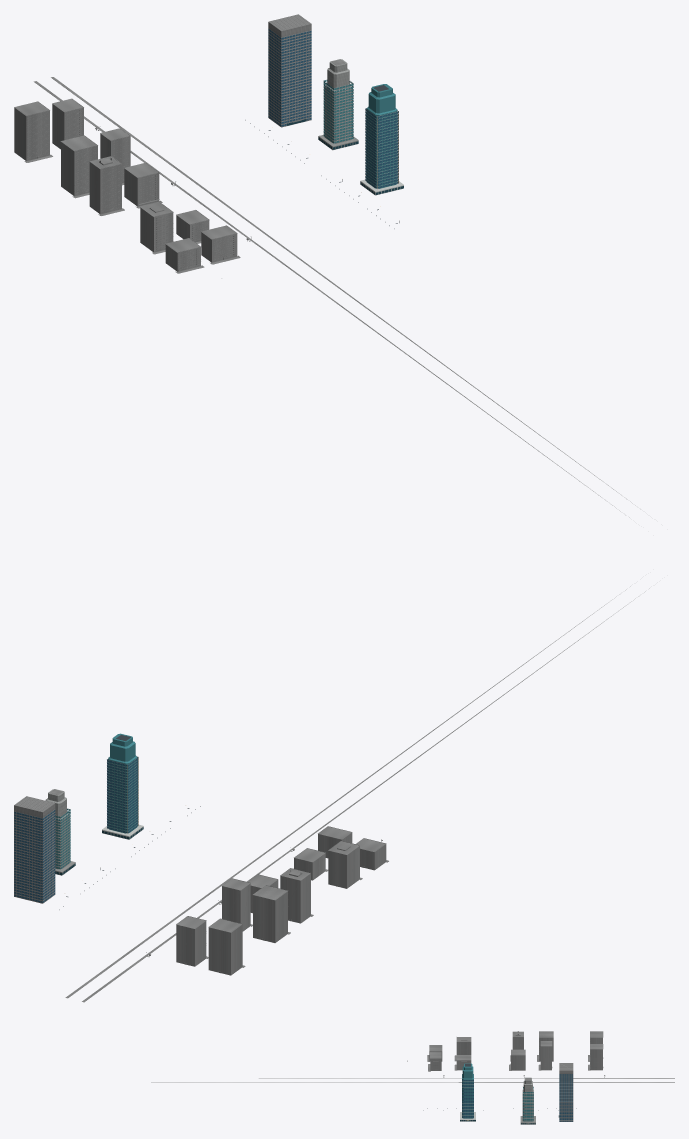
Rendered from cell_2_-4_lod1.gltf.
3 renders of one model, top to bottom at view 1: azimuth 30°, elevation 25°; view 2: azimuth 150°, elevation 25°; view 3: azimuth 270°, elevation 25°, orthographic. The views are drawn at different scales.
Parts seen in each view (by area): view 1: MASS_EKO_004, EKO_BATCH_EKO_|_deep_Atlantic_blue_glass, EKO_ENTRY_DOOR_EKO_RESIDENCE_COURT_03, EKO_RETAIL_PODIUM_EKO_RESIDENCE_COURT_03, EKO_MARINA_HOTEL_02; view 2: MASS_EKO_004, EKO_BATCH_EKO_|_deep_Atlantic_blue_glass, EKO_ENTRY_DOOR_EKO_RESIDENCE_COURT_03, EKO_RETAIL_PODIUM_EKO_RESIDENCE_COURT_03, EKO_MARINA_HOTEL_02; view 3: MASS_EKO_004, EKO_BATCH_EKO_|_deep_Atlantic_blue_glass, EKO_ENTRY_DOOR_EKO_RESIDENCE_COURT_03, EKO_MARINA_HOTEL_02, EKO_RETAIL_PODIUM_EKO_RESIDENCE_COURT_03.
Part boxes in pixels (box(x1,y1,x2,y2)): MASS_EKO_004: box(14, 14, 635, 517); EKO_BATCH_EKO_|_deep_Atlantic_blue_glass: box(268, 28, 398, 188); EKO_ENTRY_DOOR_EKO_RESIDENCE_COURT_03: box(323, 80, 397, 188); EKO_RETAIL_PODIUM_EKO_RESIDENCE_COURT_03: box(268, 30, 403, 195); EKO_MARINA_HOTEL_02: box(324, 59, 352, 143); MASS_EKO_004: box(14, 586, 649, 1002); EKO_BATCH_EKO_|_deep_Atlantic_blue_glass: box(14, 757, 138, 902); EKO_ENTRY_DOOR_EKO_RESIDENCE_COURT_03: box(55, 733, 137, 869); EKO_RETAIL_PODIUM_EKO_RESIDENCE_COURT_03: box(14, 756, 143, 901); EKO_MARINA_HOTEL_02: box(45, 789, 69, 869); MASS_EKO_004: box(151, 1031, 674, 1121); EKO_BATCH_EKO_|_deep_Atlantic_blue_glass: box(462, 1074, 572, 1121); EKO_ENTRY_DOOR_EKO_RESIDENCE_COURT_03: box(462, 1063, 533, 1121); EKO_MARINA_HOTEL_02: box(522, 1077, 533, 1121); EKO_RETAIL_PODIUM_EKO_RESIDENCE_COURT_03: box(460, 1081, 572, 1121).
Size of the model in its own units: 412 by 144 by 1645.
10 materials, 3 textured.
